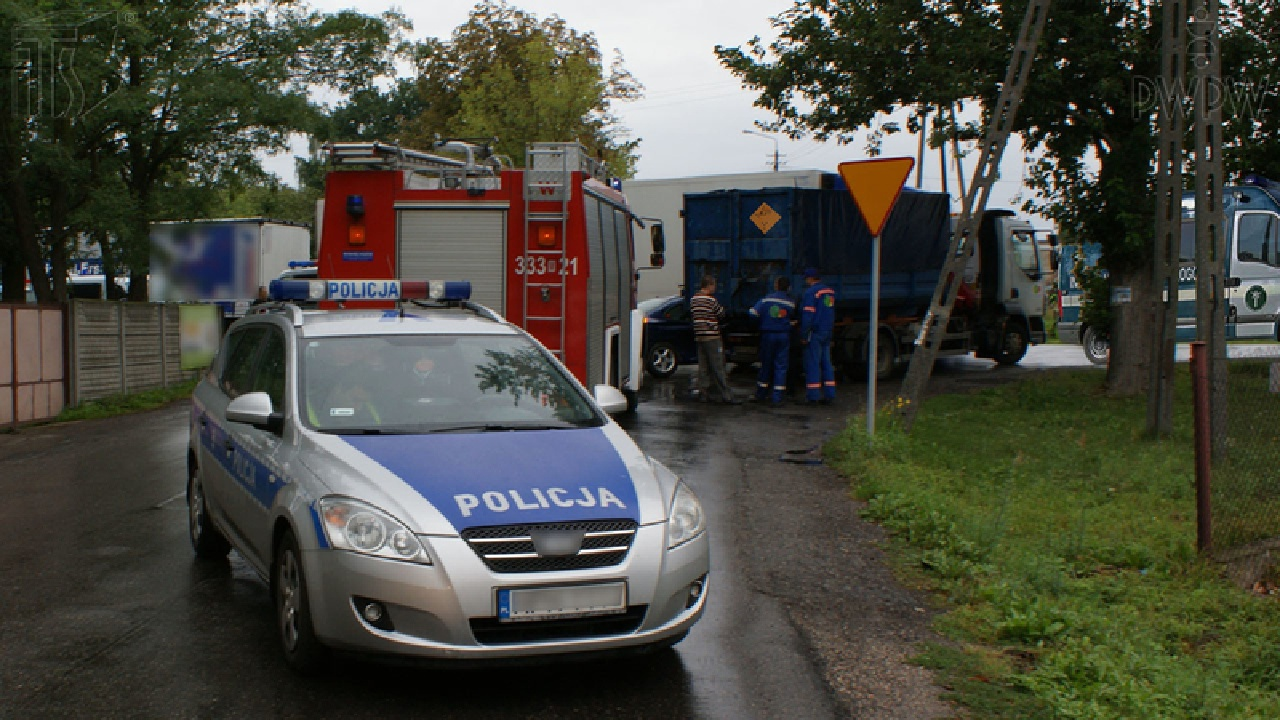A7: (838, 157, 916, 236)
